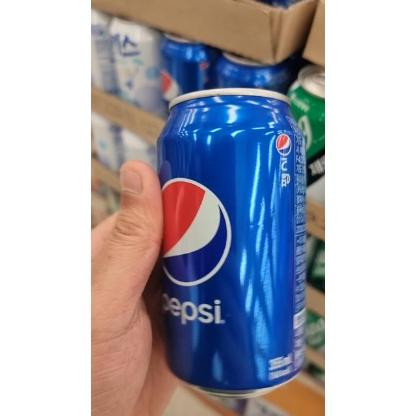Can: (158, 89, 306, 398)
